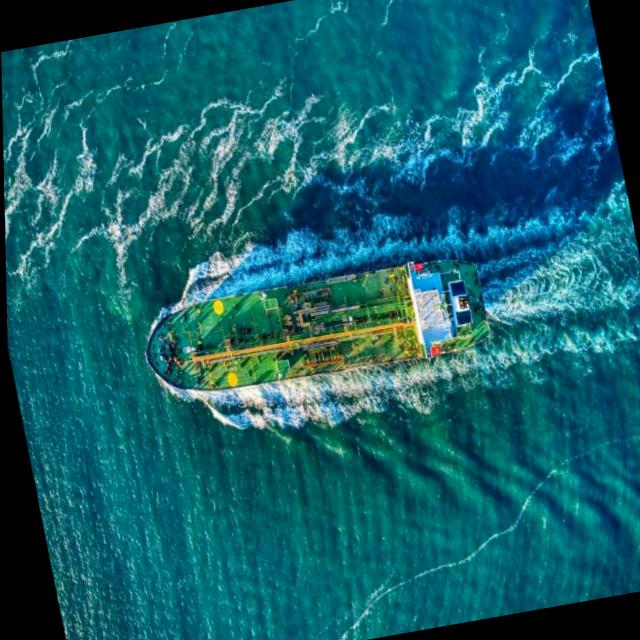ship2: (145, 257, 488, 392)
